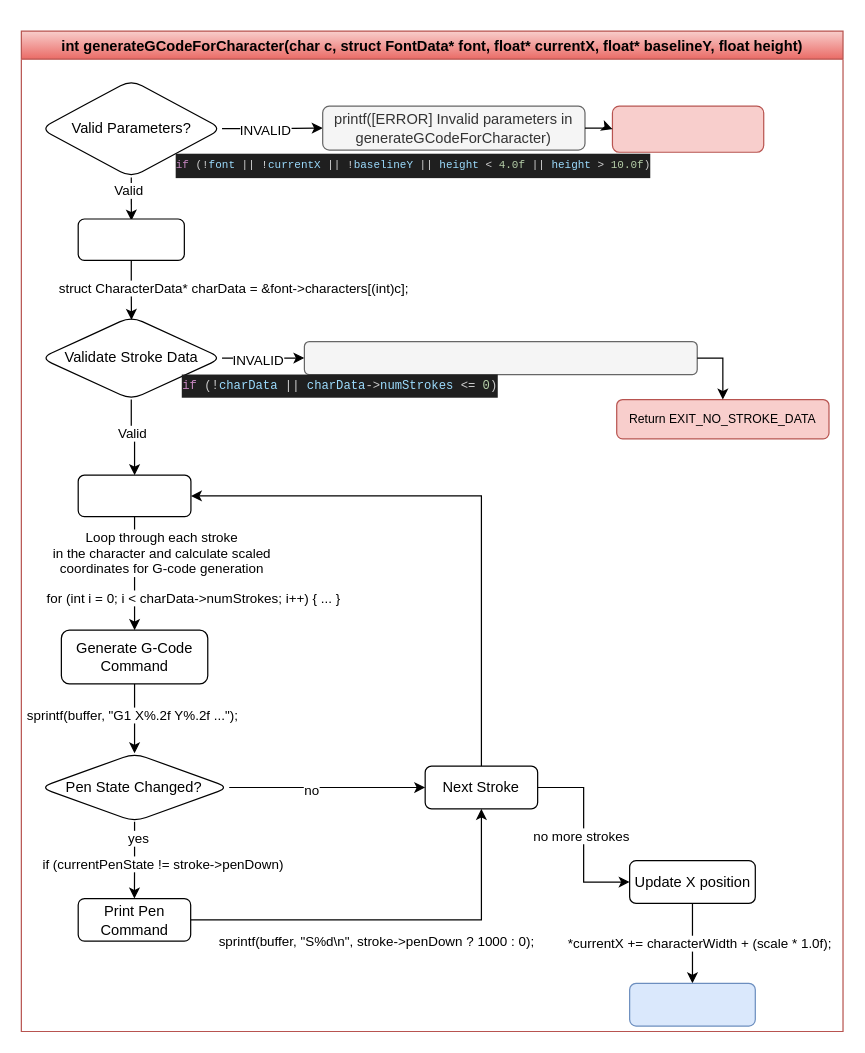
The diagram is 865 pixels wide and 1053 high, and some of its shapes have lost their labels. Each missing label, with the centre of its shape:
"Get Character Data" belongs at point (130, 239).
"printf([WArNING] No stroke data for charcter '%c)" belongs at point (500, 357).
"Process Strokes" belongs at point (134, 495).
"Return EXIT_INVALID_PARAMS" belongs at point (687, 128).
"Return SUCCESS" belongs at point (691, 1004).
